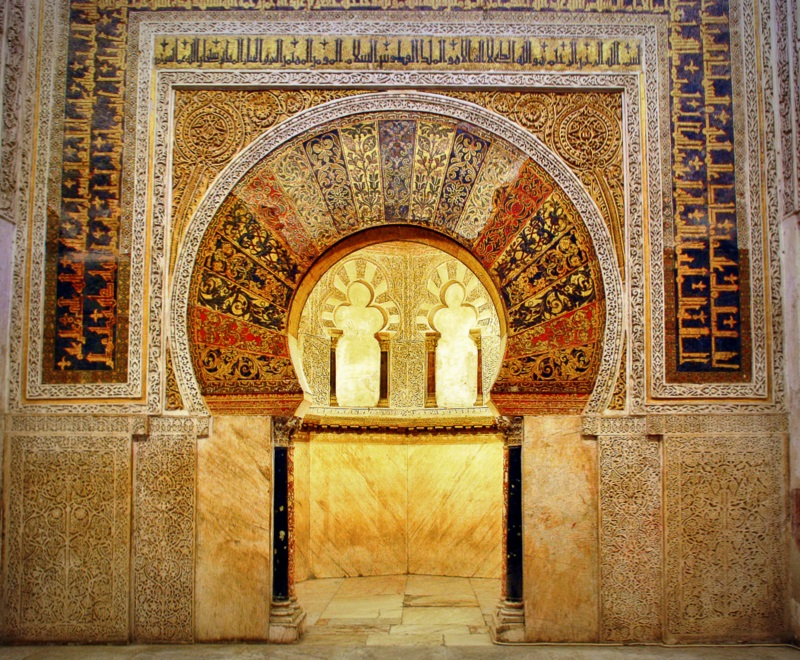arco-herradura: (257, 211, 537, 442)
